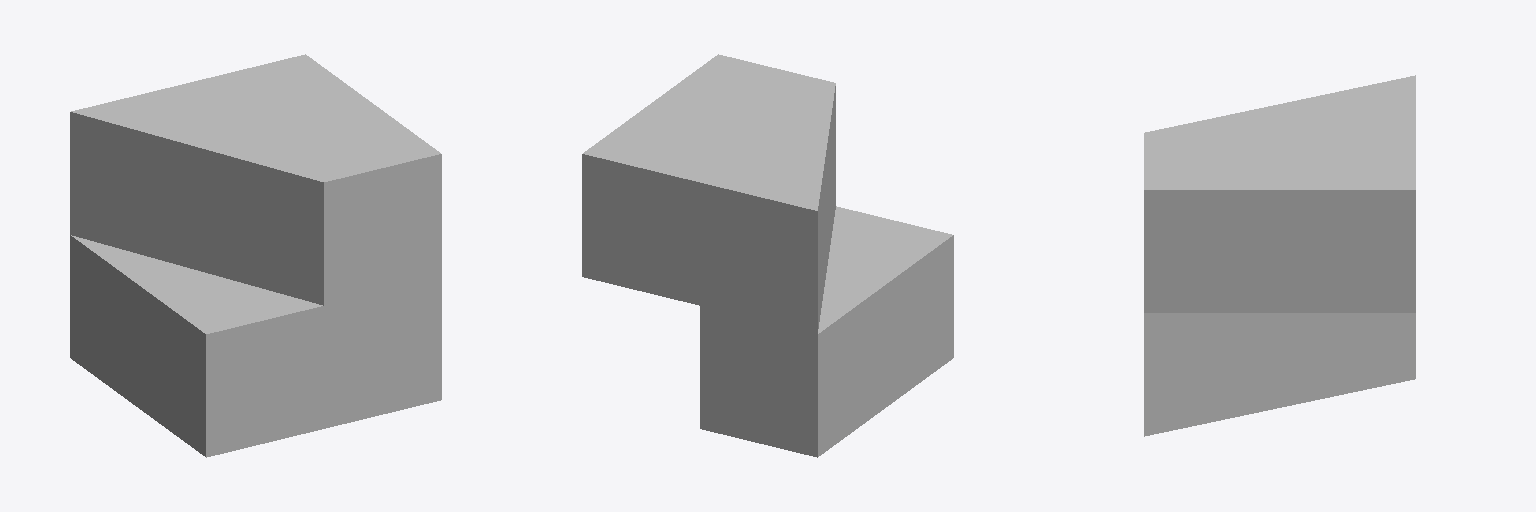
Rendered from diagsteps_52z.obj.
3 renders of one model, left to right at view 1: azimuth 30°, elevation 25°; view 2: azimuth 150°, elevation 25°; view 3: azimuth 270°, elevation 25°, orthographic.
Size of the model in its own units: 1 by 1 by 1.